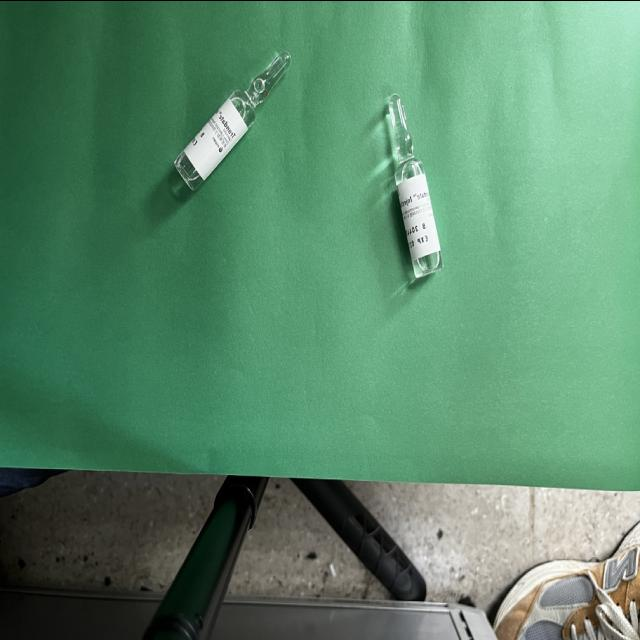Ampoules: (174, 51, 290, 189), (385, 94, 442, 277)
